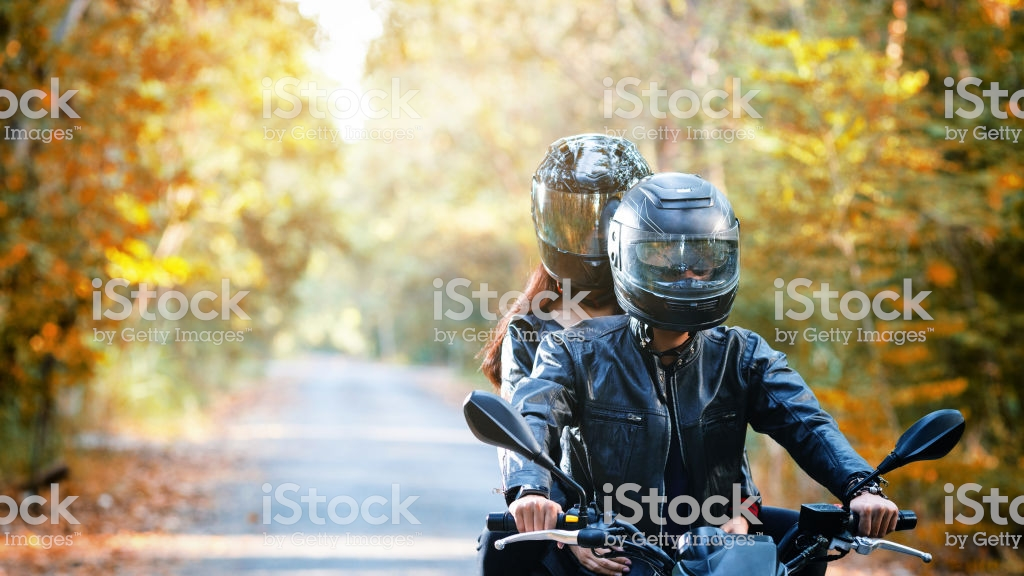helmet: (614, 179, 746, 338), (532, 124, 636, 284)
